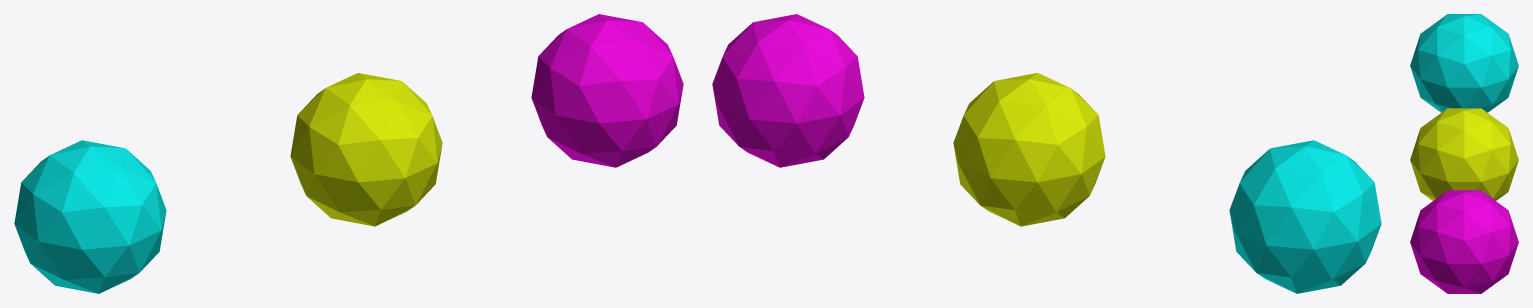
Rendered from scenesofspheres.gltf.
3 views of the same model, side by side, from view 1: azimuth 30°, elevation 25°; view 2: azimuth 150°, elevation 25°; view 3: azimuth 270°, elevation 25° (orthographic). The views are drawn at different scales.
Visible parts, largest first — view 1: Magenta.001, Cyan.001, Yellow.001; view 2: Magenta.001, Cyan.001, Yellow.001; view 3: Magenta.001, Cyan.001, Yellow.001.
Boxes of the visible parts, box(x1,y1,x2,y2) form: Magenta.001: box(531, 14, 683, 167); Cyan.001: box(14, 140, 166, 293); Yellow.001: box(290, 73, 442, 226); Magenta.001: box(712, 14, 864, 167); Cyan.001: box(1229, 140, 1381, 293); Yellow.001: box(953, 73, 1105, 226); Magenta.001: box(1410, 190, 1518, 293); Cyan.001: box(1410, 14, 1518, 112); Yellow.001: box(1410, 108, 1518, 200).
Bounding box in the file's own units: 9.57 × 2 × 2.
